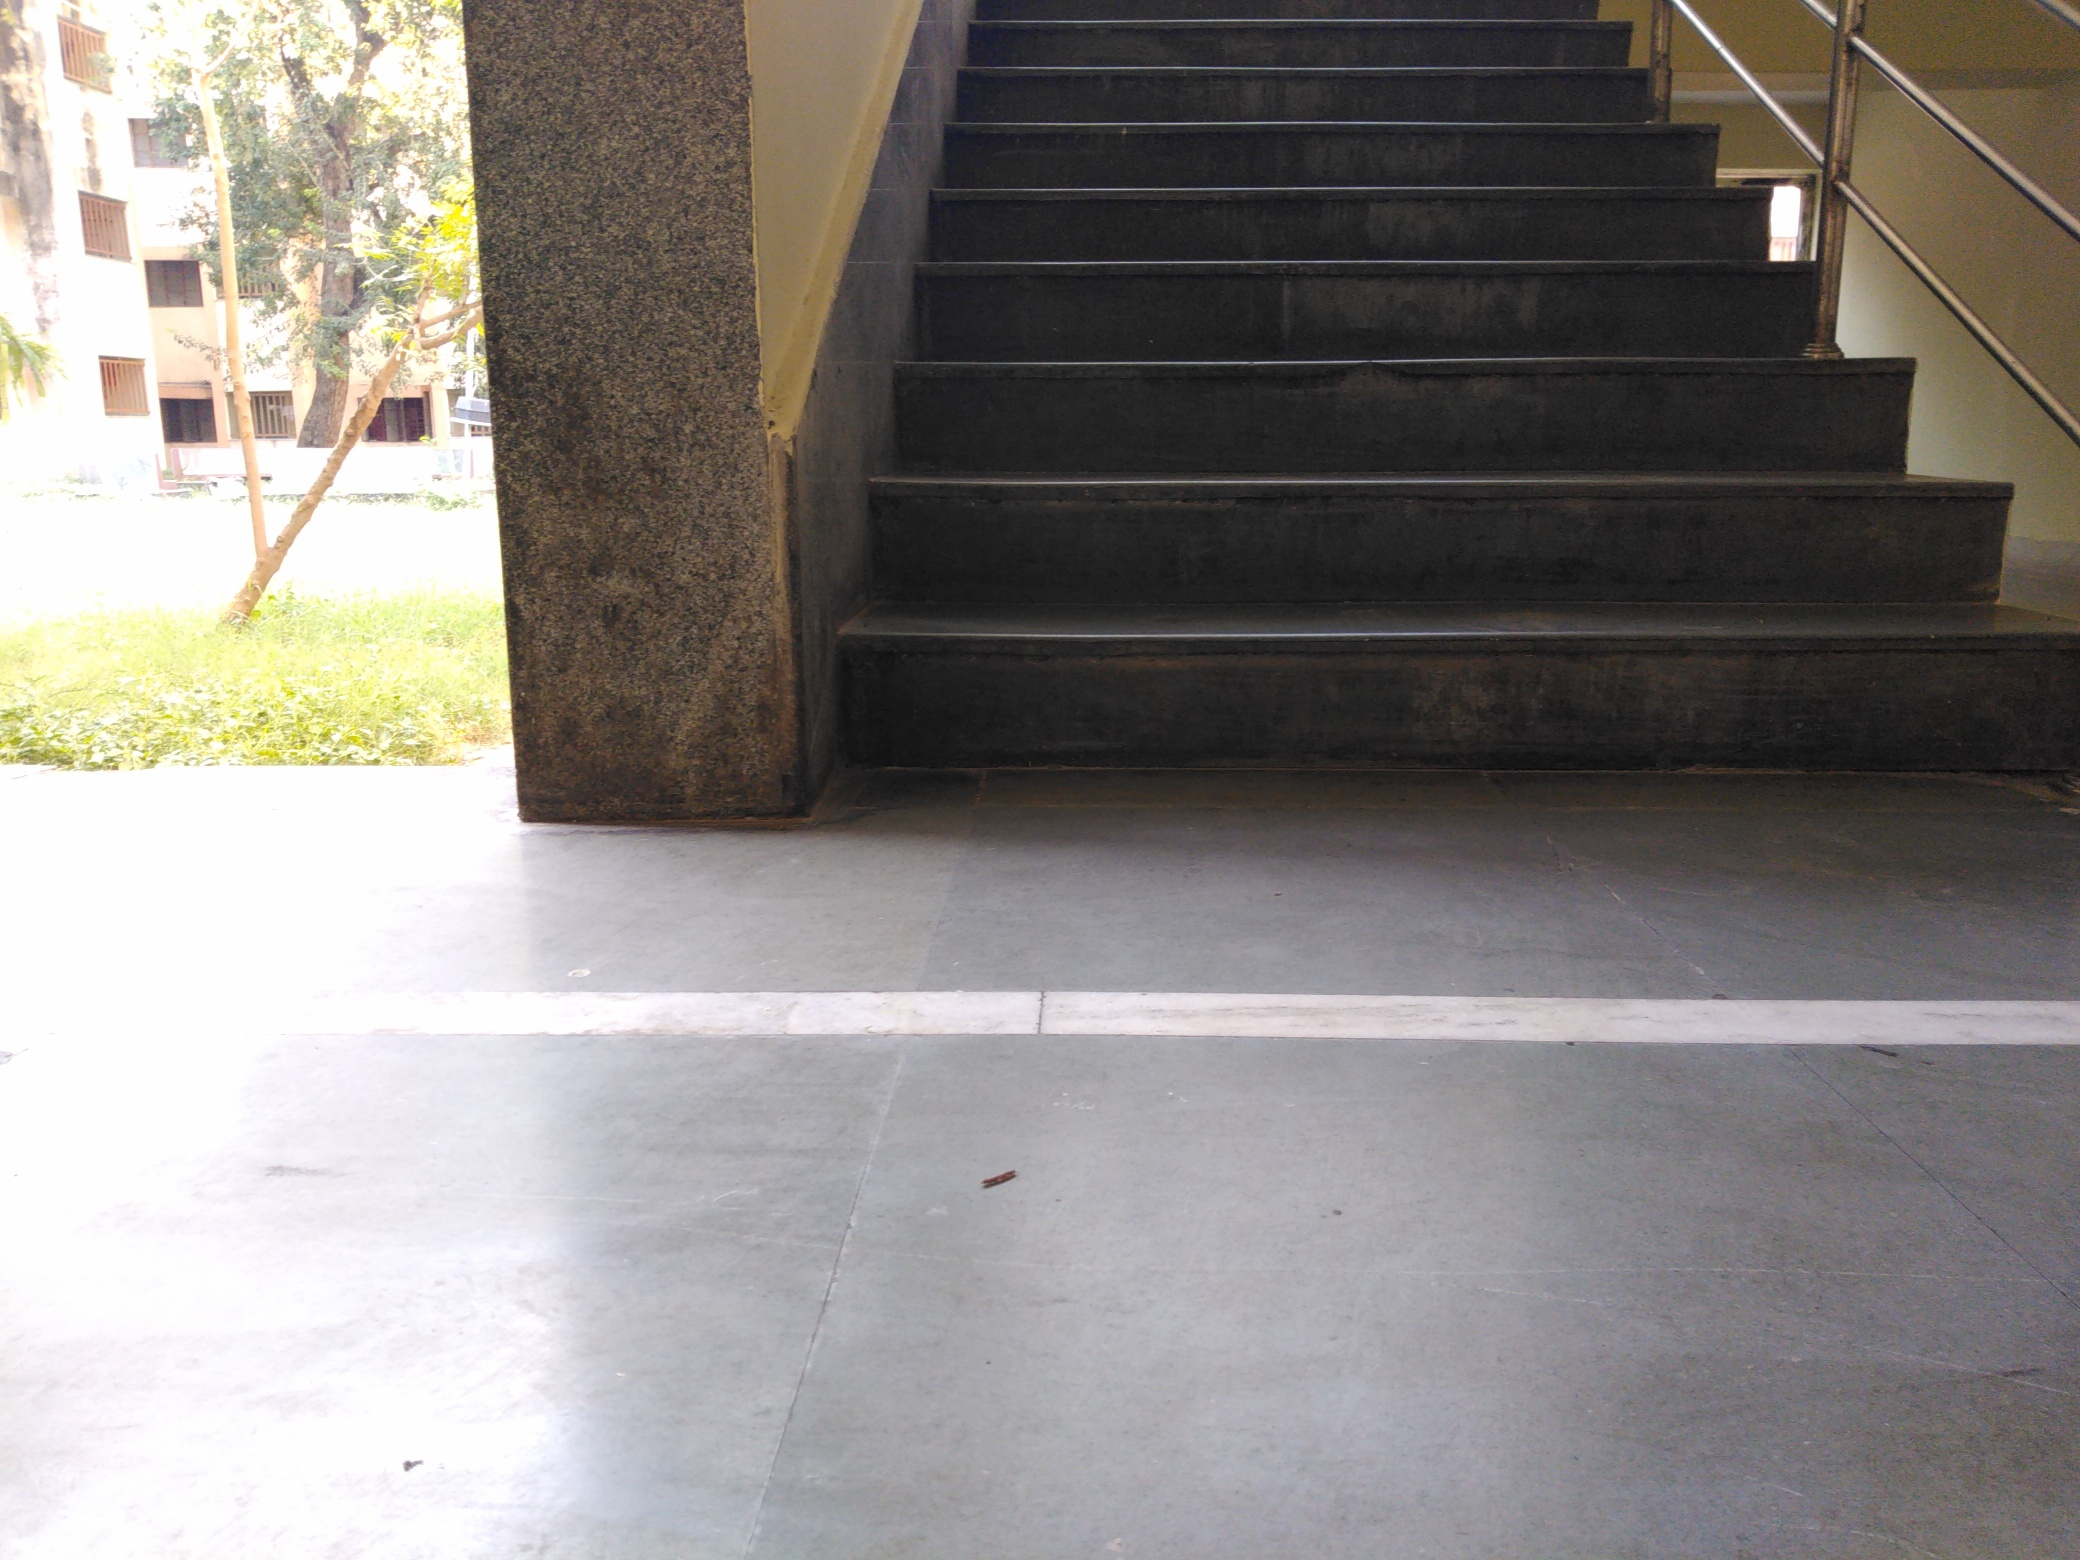stairs_up: (835, 29, 2065, 765)
